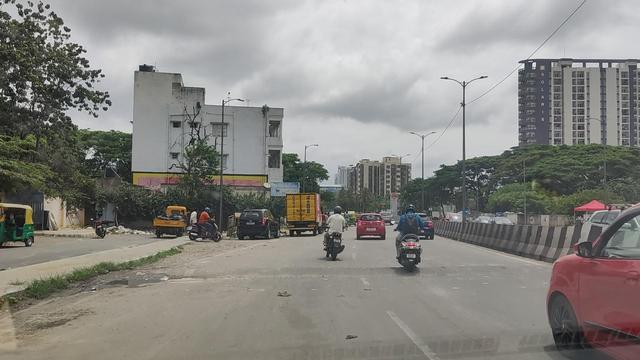HMV: (286, 194, 317, 233)
LMV: (397, 205, 423, 264), (327, 207, 345, 255), (357, 215, 384, 238)
RoadDamages: (11, 297, 103, 337), (122, 261, 188, 287)
SpeedBump: (183, 261, 549, 280)
